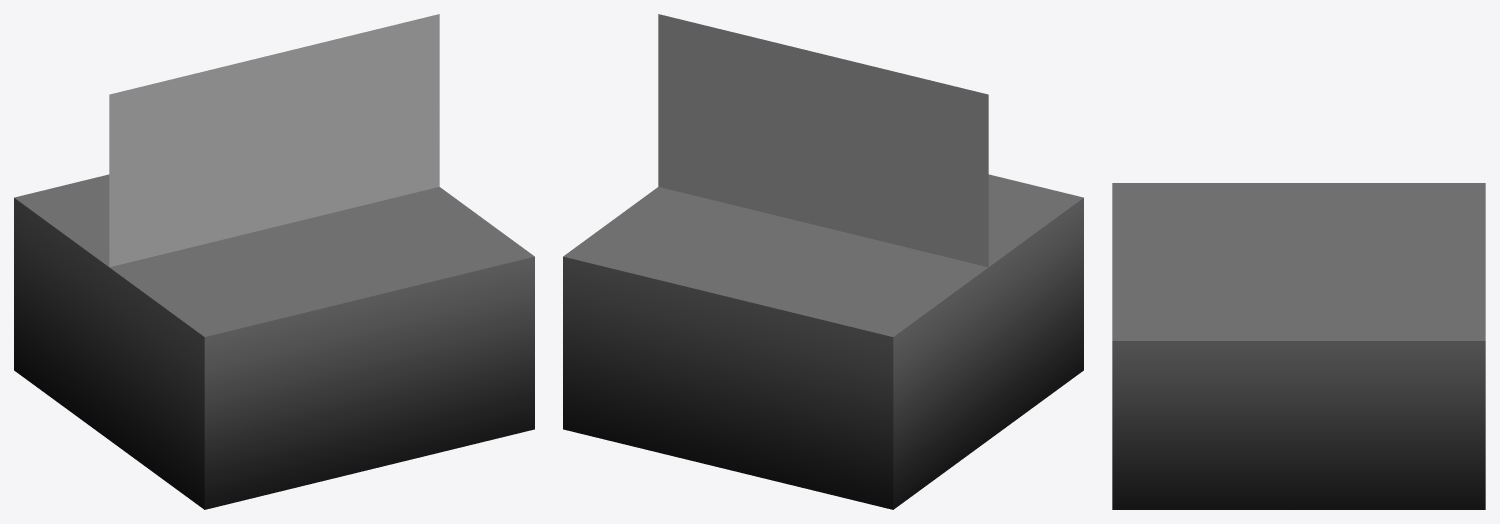
File: Walls&Wire.fbx
3 renders of one model, left to right at view 1: azimuth 30°, elevation 25°; view 2: azimuth 150°, elevation 25°; view 3: azimuth 270°, elevation 25°, orthographic. The views are drawn at different scales.
Parts seen in each view (by area): view 1: Cube.008, Plane.010; view 2: Cube.008, Plane.010; view 3: Cube.008.
Part boxes in pixels (x1,y1,x2,y2): Cube.008: [14, 174, 534, 509]; Plane.010: [109, 14, 439, 267]; Cube.008: [563, 174, 1083, 509]; Plane.010: [658, 14, 988, 267]; Cube.008: [1112, 183, 1485, 509].
Bounding box in the file's own units: 200 × 200 × 200.
